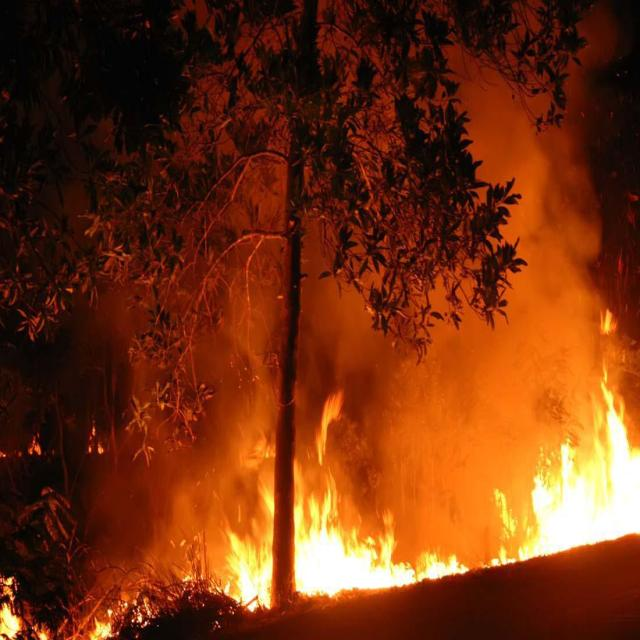fire: (231, 449, 461, 589), (500, 354, 639, 545)
